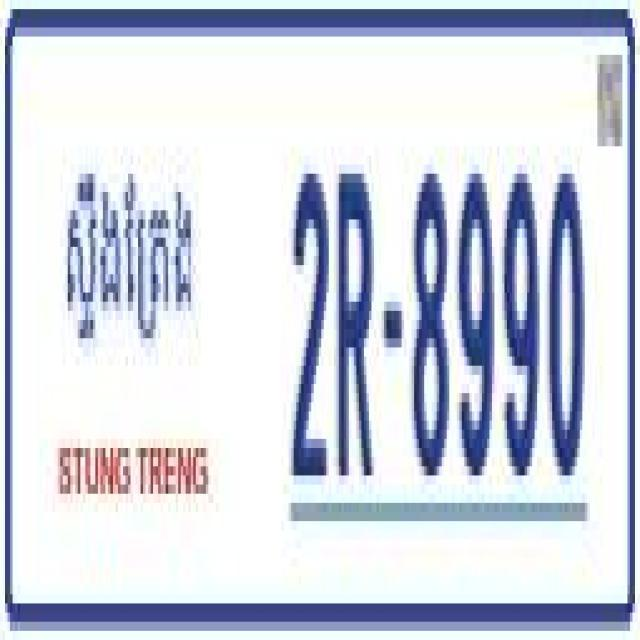Stung_Treng: (58, 155, 201, 382)
